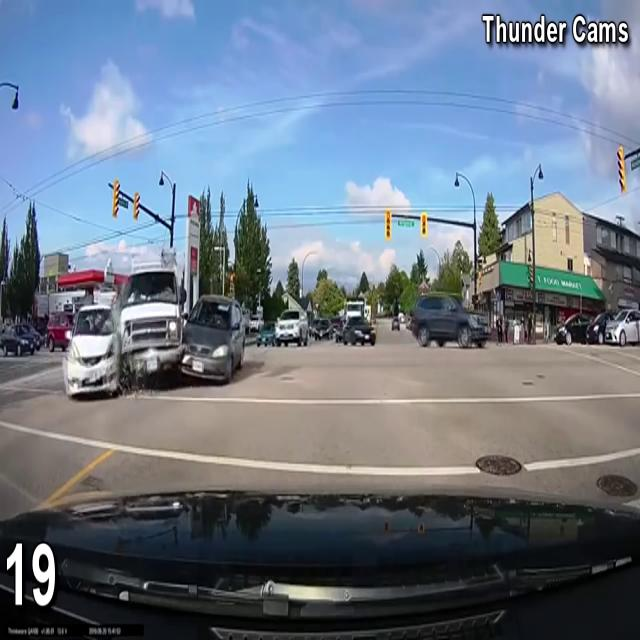accident: (51, 262, 251, 414)
